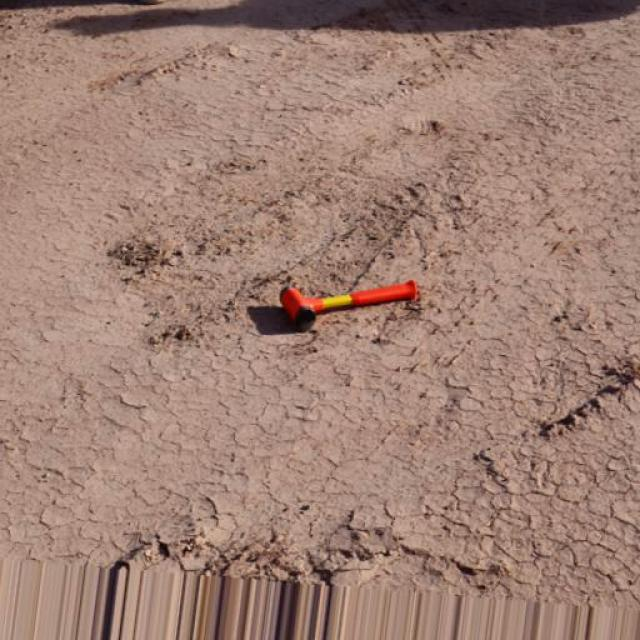mallet: (280, 278, 421, 326)
